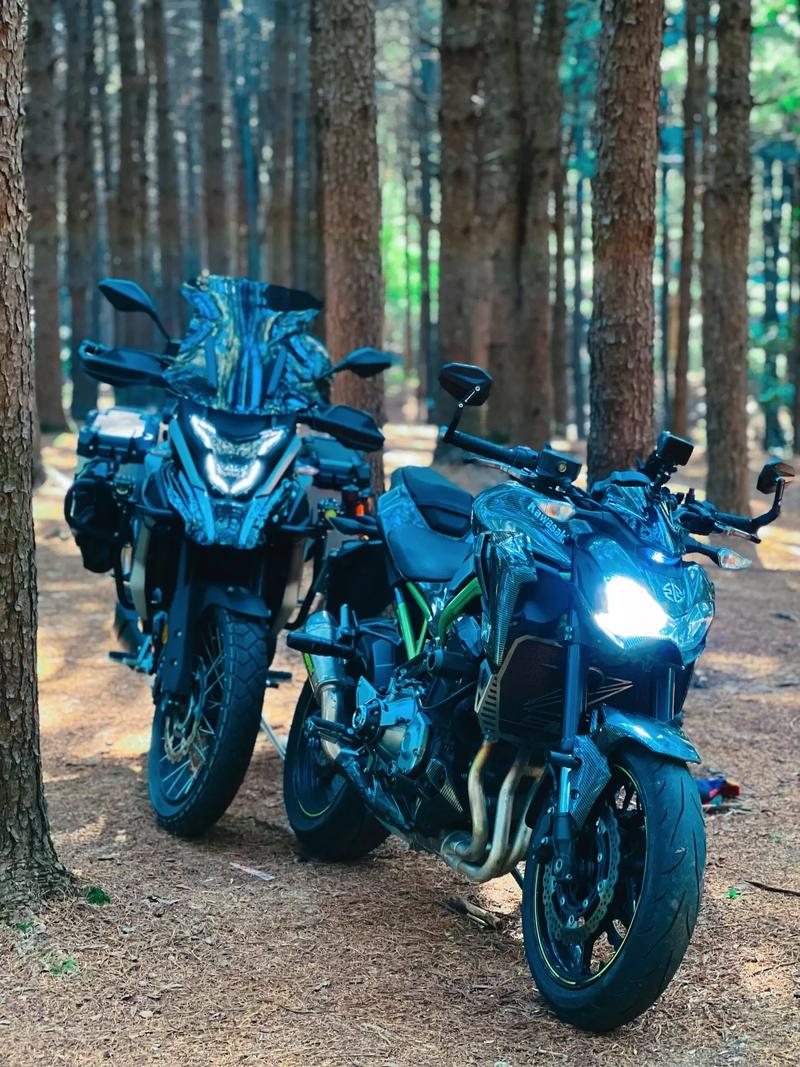摩托车: (321, 365, 723, 1037), (52, 259, 322, 842)
